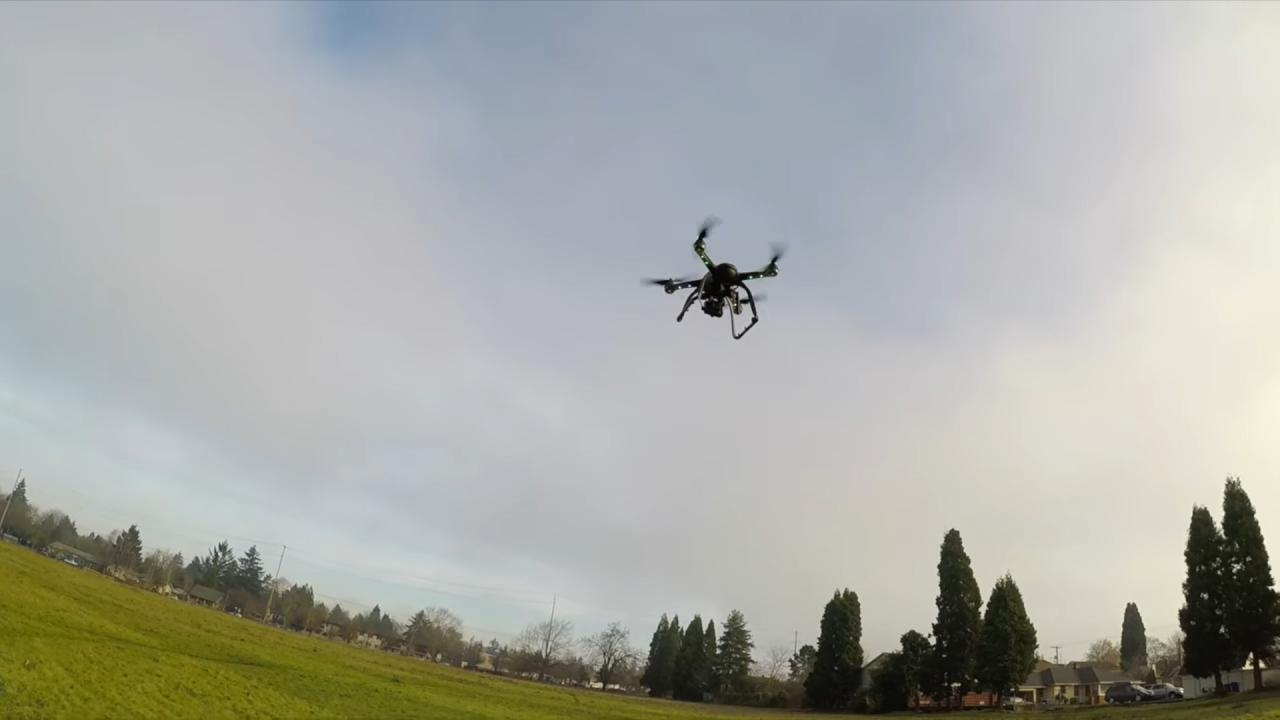Drone: (627, 205, 802, 355)
